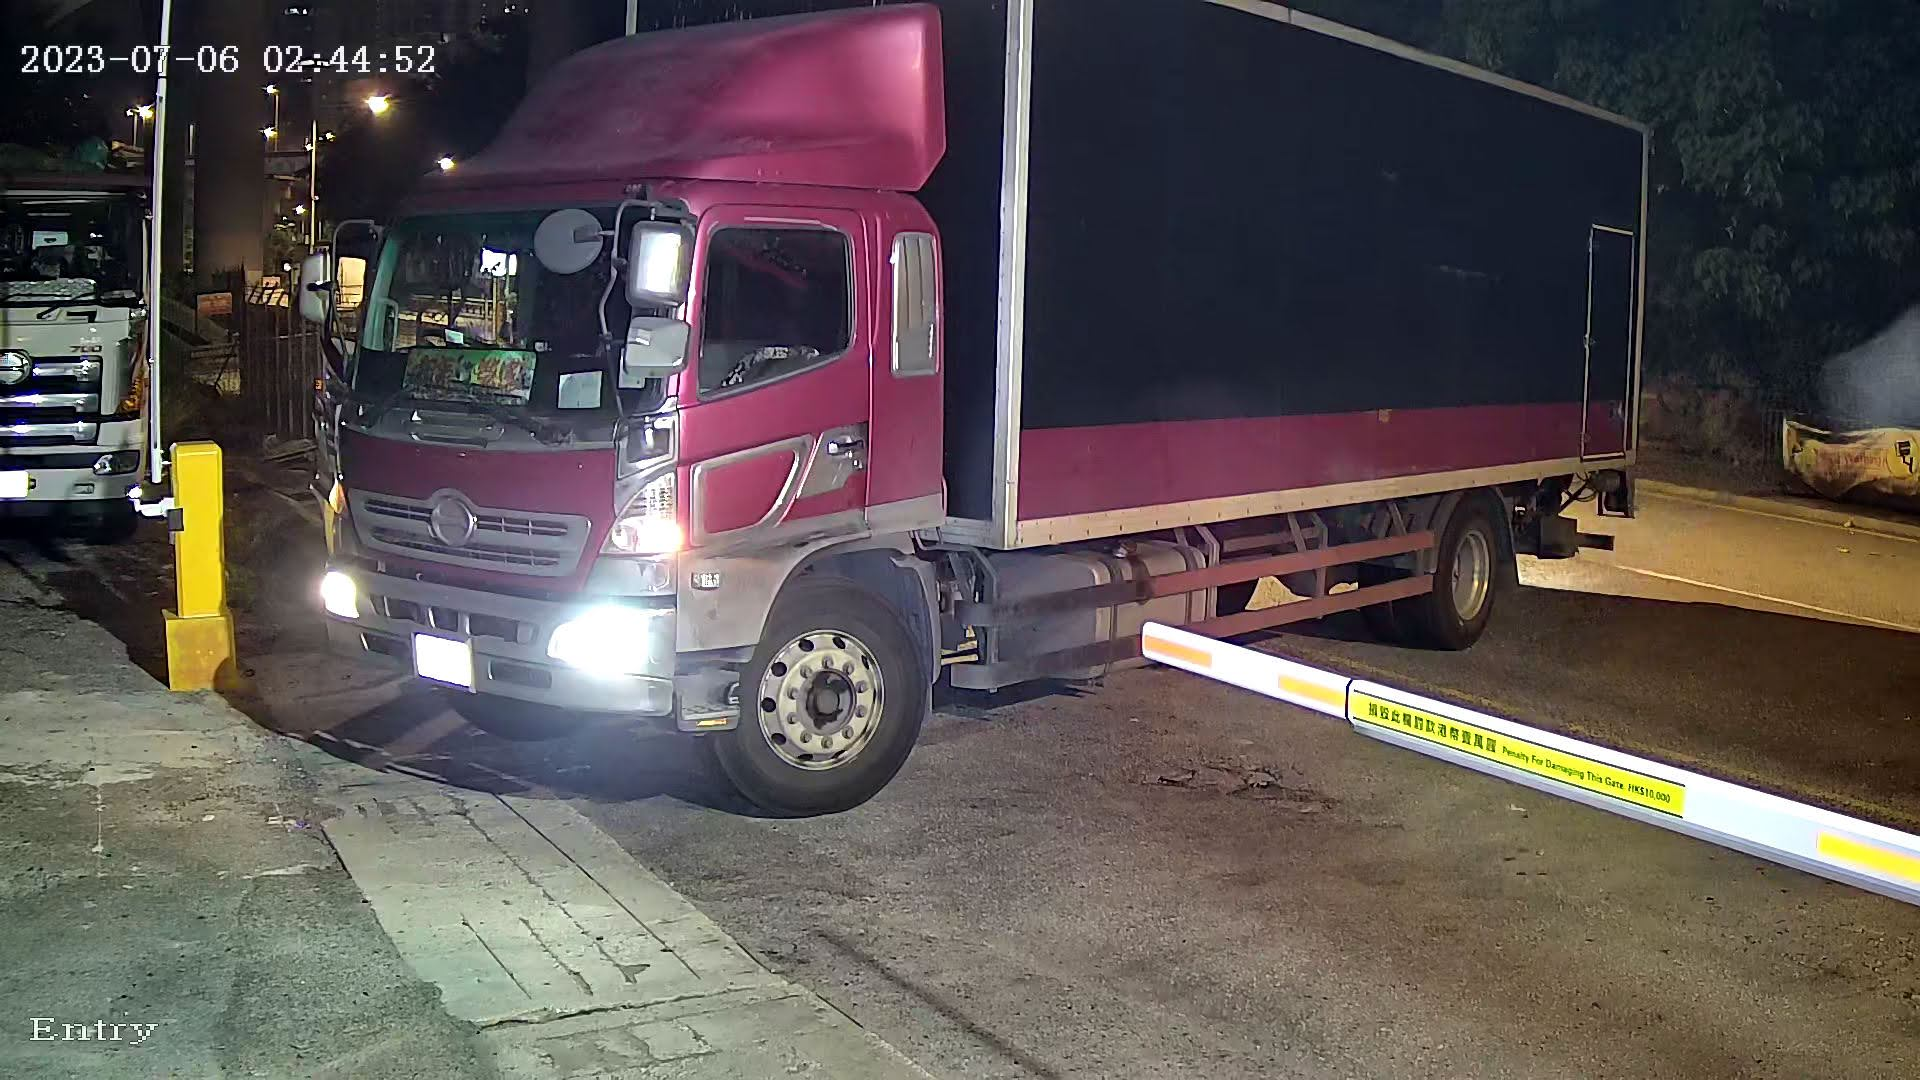truck_large: (285, 1, 1684, 823)
